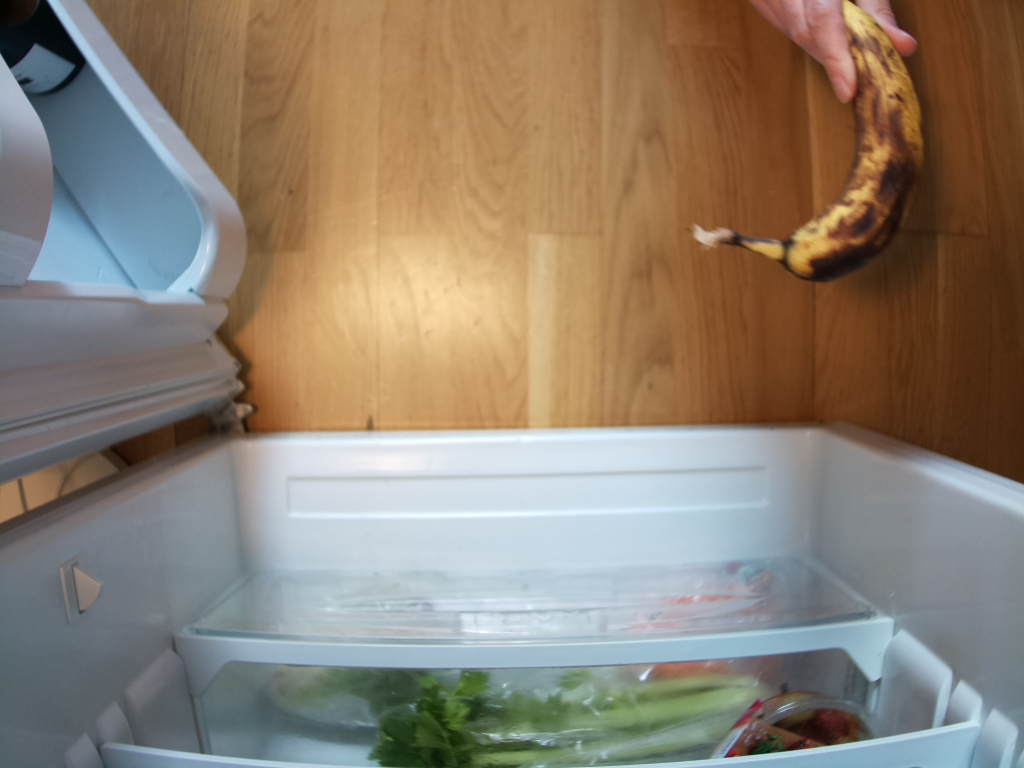banana-overripe: (689, 1, 926, 287)
